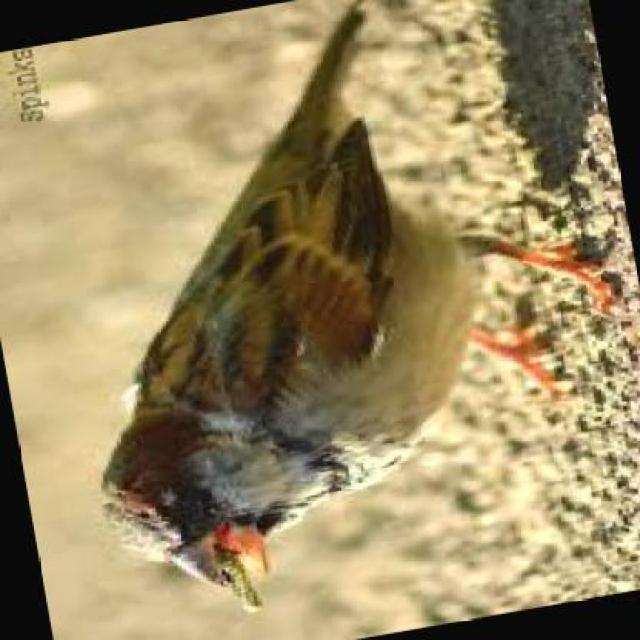Bird: (94, 4, 615, 622)
